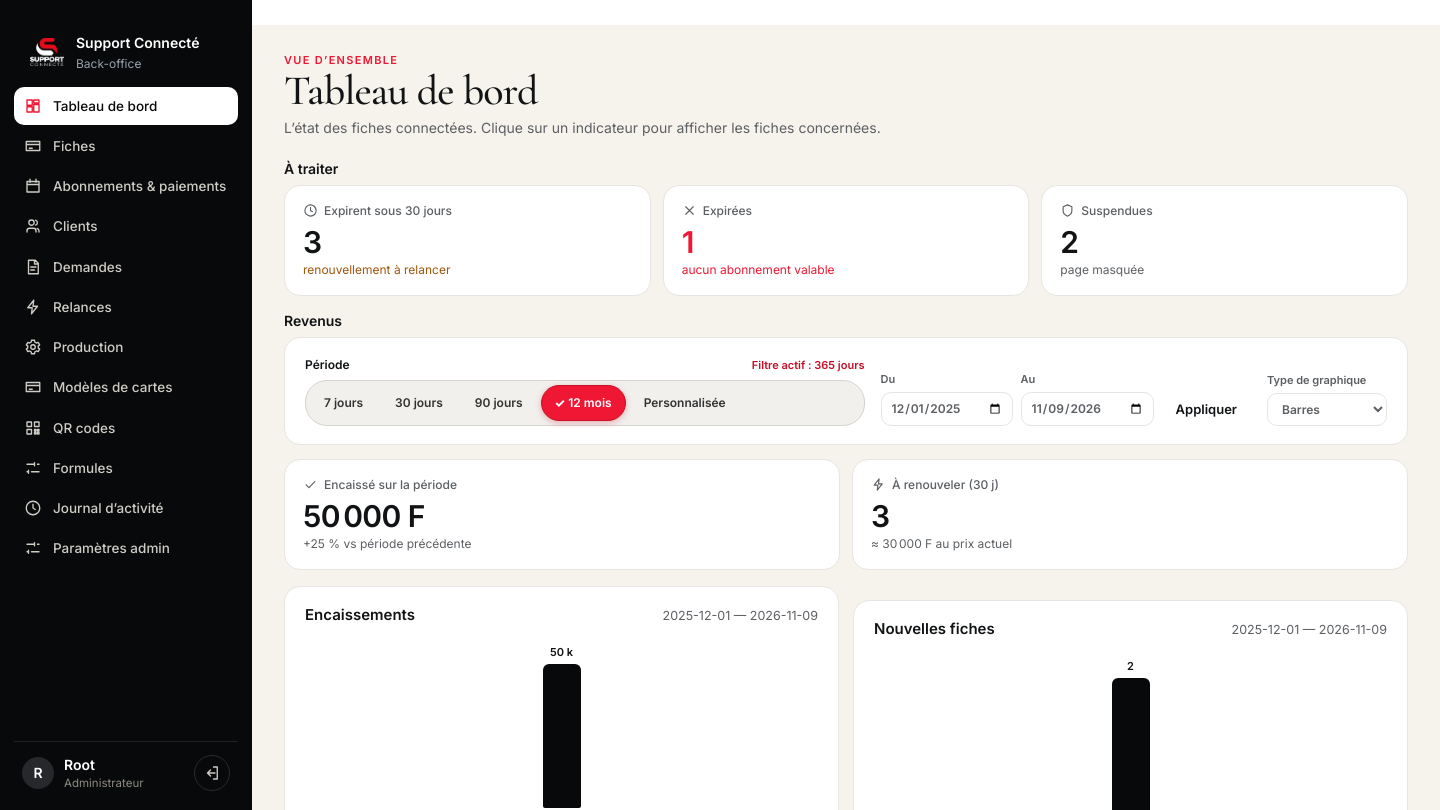
Scenario: pages du back-office › met clairement en évidence la période de 30 jours sélectionnée
Click the button "30 jours".
click(419, 403)  # box [381, 385, 457, 421]
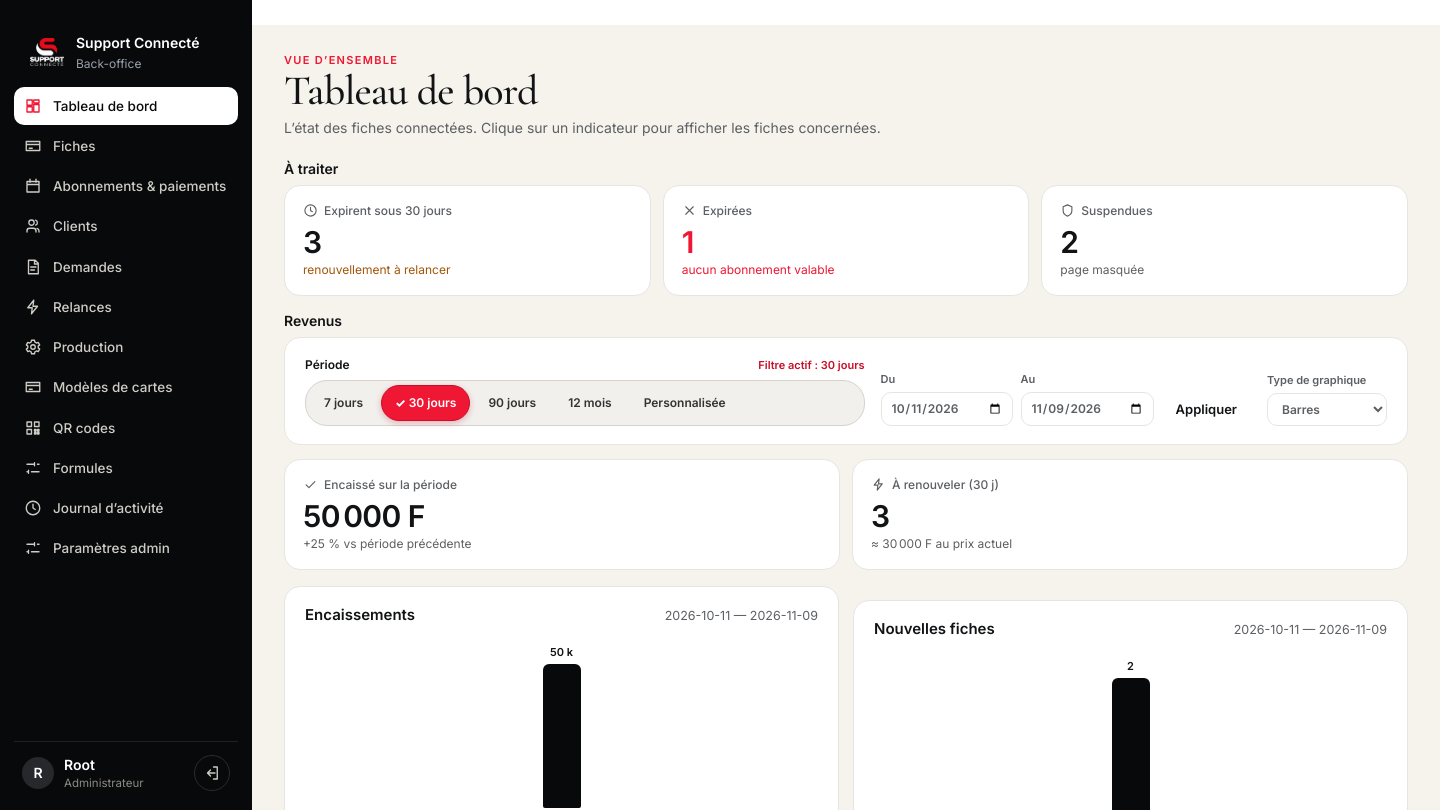
Expected: the text "Filtre actif : 30 jours" is shown, [758, 357, 864, 373]
